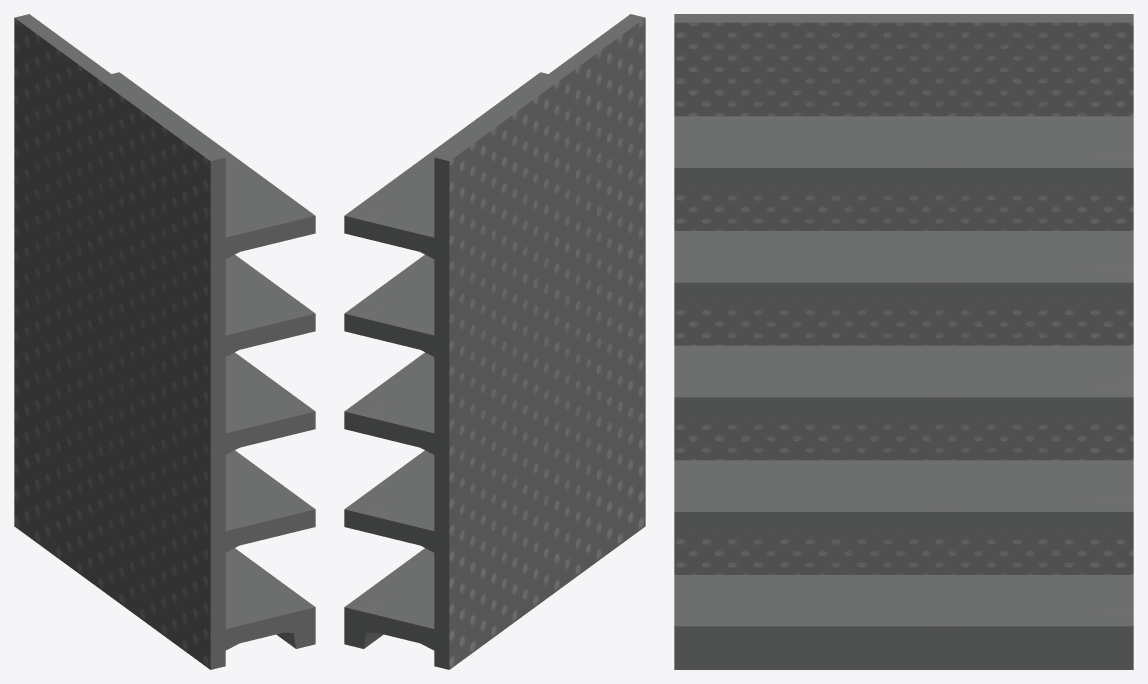
The model's file is snacks shelves.fbx.
3 views of the same model, side by side, from view 1: azimuth 30°, elevation 25°; view 2: azimuth 150°, elevation 25°; view 3: azimuth 270°, elevation 25° (orthographic). The views are drawn at different scales.
Parts seen in each view (by area): view 1: shelf; view 2: shelf; view 3: shelf.
Part boxes in pixels (box(x1,y1,x2,y2)): shelf: box(14, 14, 315, 669); shelf: box(344, 14, 645, 669); shelf: box(674, 14, 1133, 669).
Bounding box in the file's own units: 0.7772 × 3.59 × 2.51.
Materials: 1 (1 with a texture image).
